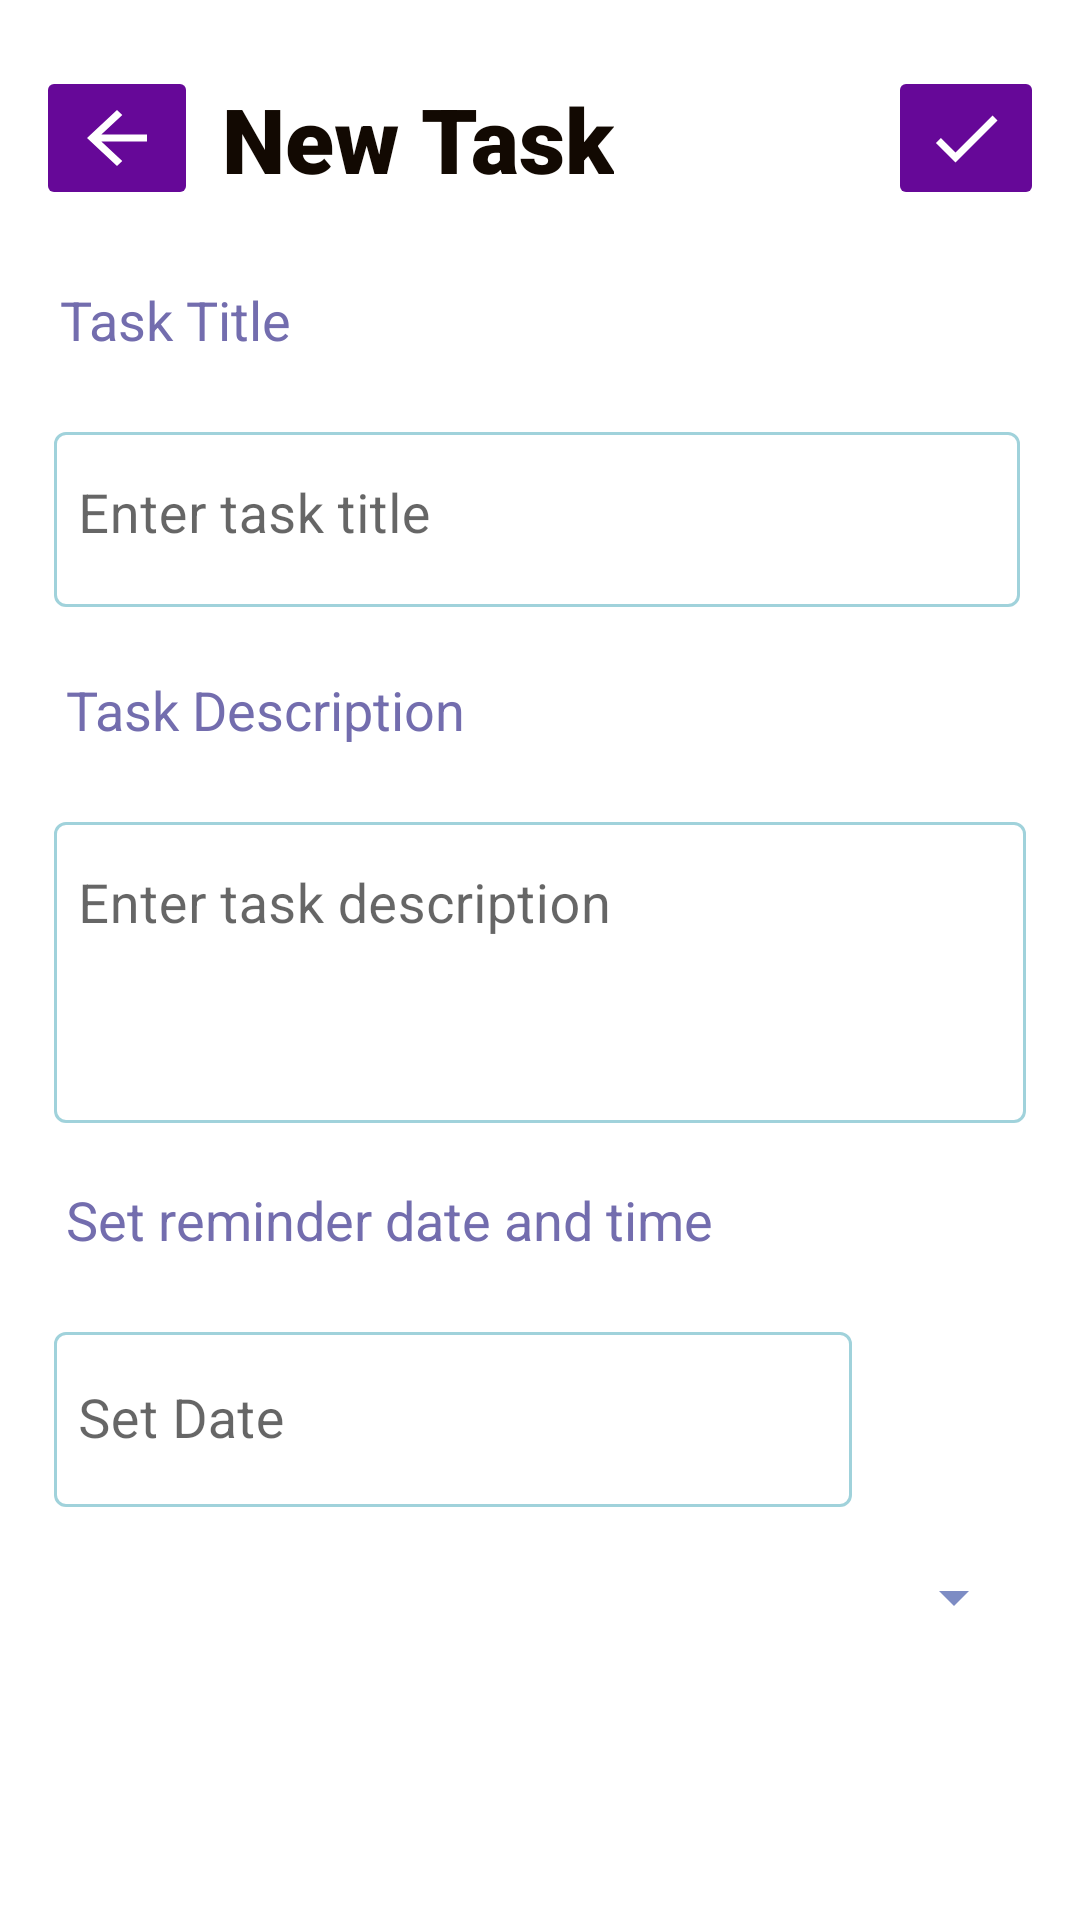

Where to tap for icons on this 1080x1920 app screen, as (x=x, y=y):
arrow back: (x=117, y=138)
check: (x=966, y=138)
